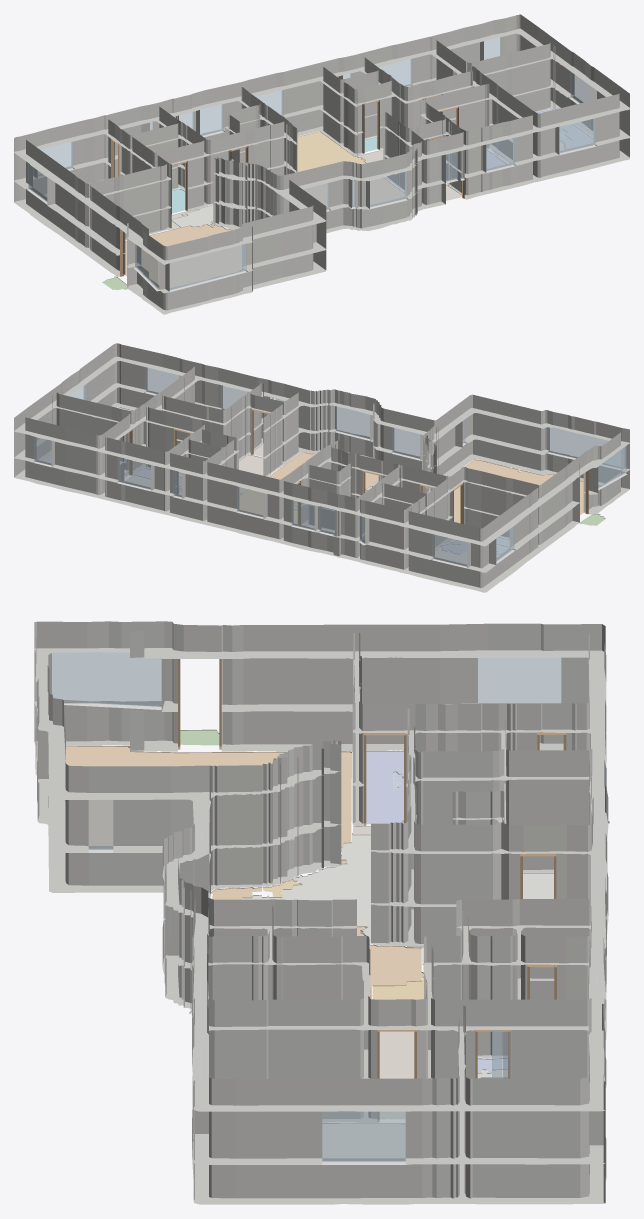
The picture shows the model from 3 angles, top to bottom: view 1: azimuth 30°, elevation 25°; view 2: azimuth 150°, elevation 25°; view 3: azimuth 270°, elevation 25°; orthographic projection. The views are drawn at different scales.
Parts seen in each view (by area): view 1: walls, floor_3_Living_Room, window_36, floor_2_Kitchen, window_33, window_28, floor_4_Living_Room, window_29, window_34, window_15, floor_19_Undefined, floor_6_Bed_Room (+4 smaller); view 2: walls, window_36, floor_3_Living_Room, window_16, window_33, window_21, window_34, window_27, window_18, floor_4_Living_Room, window_28, window_15 (+7 smaller); view 3: walls, floor_3_Living_Room, window_34, window_26, floor_19_Undefined, window_23, floor_24_Undefined, floor_7_Bed_Room, floor_4_Living_Room, floor_15_Entry, window_35, floor_2_Kitchen (+1 smaller).
Part boxes in pixels (box(x1,y1,x2,y2)): walls: box(14, 14, 629, 314); floor_3_Living_Room: box(125, 221, 241, 287); window_36: box(169, 242, 246, 290); floor_2_Kitchen: box(297, 131, 366, 172); window_33: box(370, 171, 407, 207); window_28: box(559, 118, 595, 153); floor_4_Living_Room: box(303, 178, 404, 207); window_29: box(486, 136, 514, 170); window_34: box(135, 244, 159, 289); window_15: box(200, 104, 223, 135); floor_19_Undefined: box(171, 204, 214, 227); floor_6_Bed_Room: box(537, 109, 592, 149); walls: box(14, 343, 629, 592); window_36: box(548, 427, 621, 468); floor_3_Living_Room: box(454, 459, 600, 523); window_16: box(432, 534, 466, 566); window_33: box(336, 406, 369, 439); window_21: box(117, 457, 150, 489); window_34: box(592, 446, 626, 488); window_27: box(392, 427, 420, 458); window_18: box(237, 486, 263, 517); floor_4_Living_Room: box(268, 452, 378, 502); window_28: box(145, 367, 178, 394); window_15: box(291, 500, 314, 529); walls: box(34, 621, 608, 1204); floor_3_Living_Room: box(66, 745, 351, 863); window_34: box(52, 648, 161, 706); window_26: box(322, 1111, 405, 1161); floor_19_Undefined: box(242, 833, 370, 943); window_23: box(478, 657, 561, 704); floor_24_Undefined: box(322, 1123, 405, 1157); floor_7_Bed_Room: box(366, 751, 403, 824); floor_4_Living_Room: box(211, 887, 423, 999); floor_15_Entry: box(379, 1031, 414, 1118); window_35: box(88, 800, 113, 849); floor_2_Kitchen: box(372, 964, 423, 999).
Bounding box in the file's own units: 23.04 × 2.72 × 11.8.
